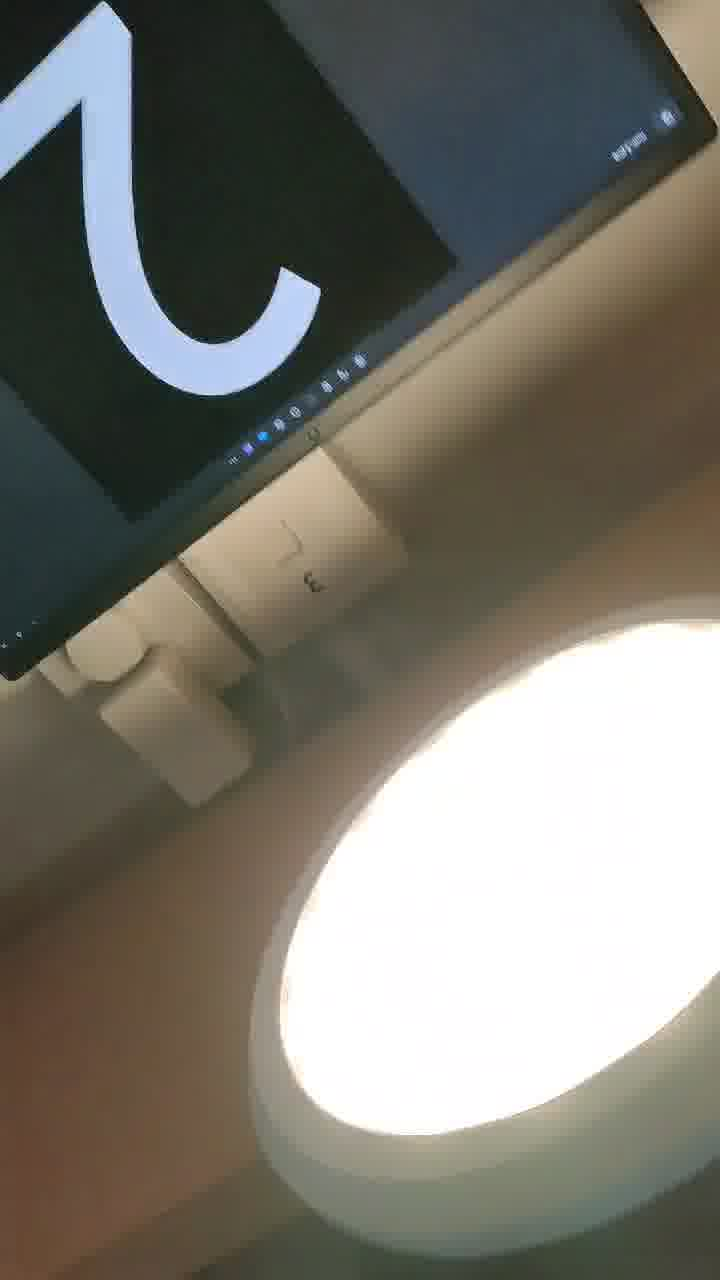two: (2, 2, 326, 438)
